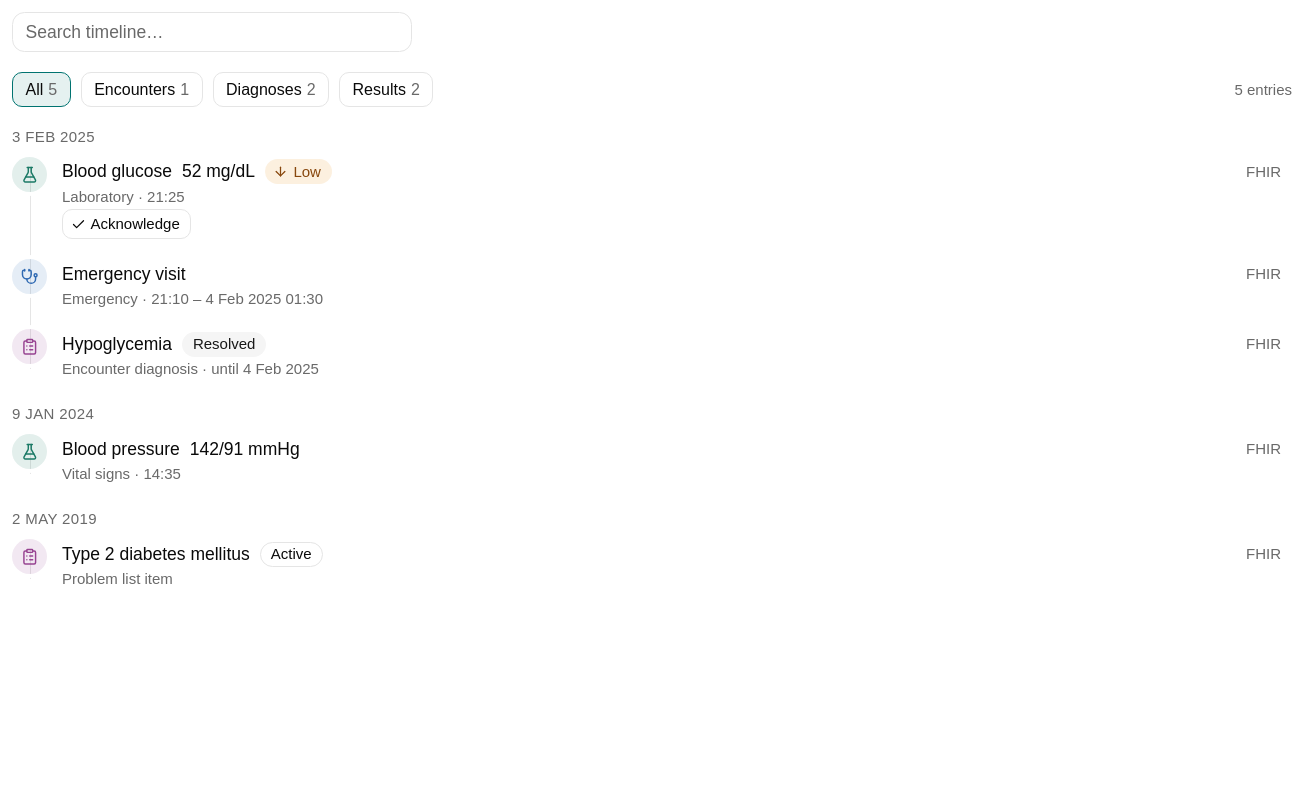
PatientTimeline › searches title, value and category, together with the type filter
Check: the text "Blood glucose" is shown, box x1=62 y1=160 x2=172 y2=184
In the search field labelled "Search timeline": coordinates (212, 32) x1=12 y1=12 x2=412 y2=52, type "142/91"
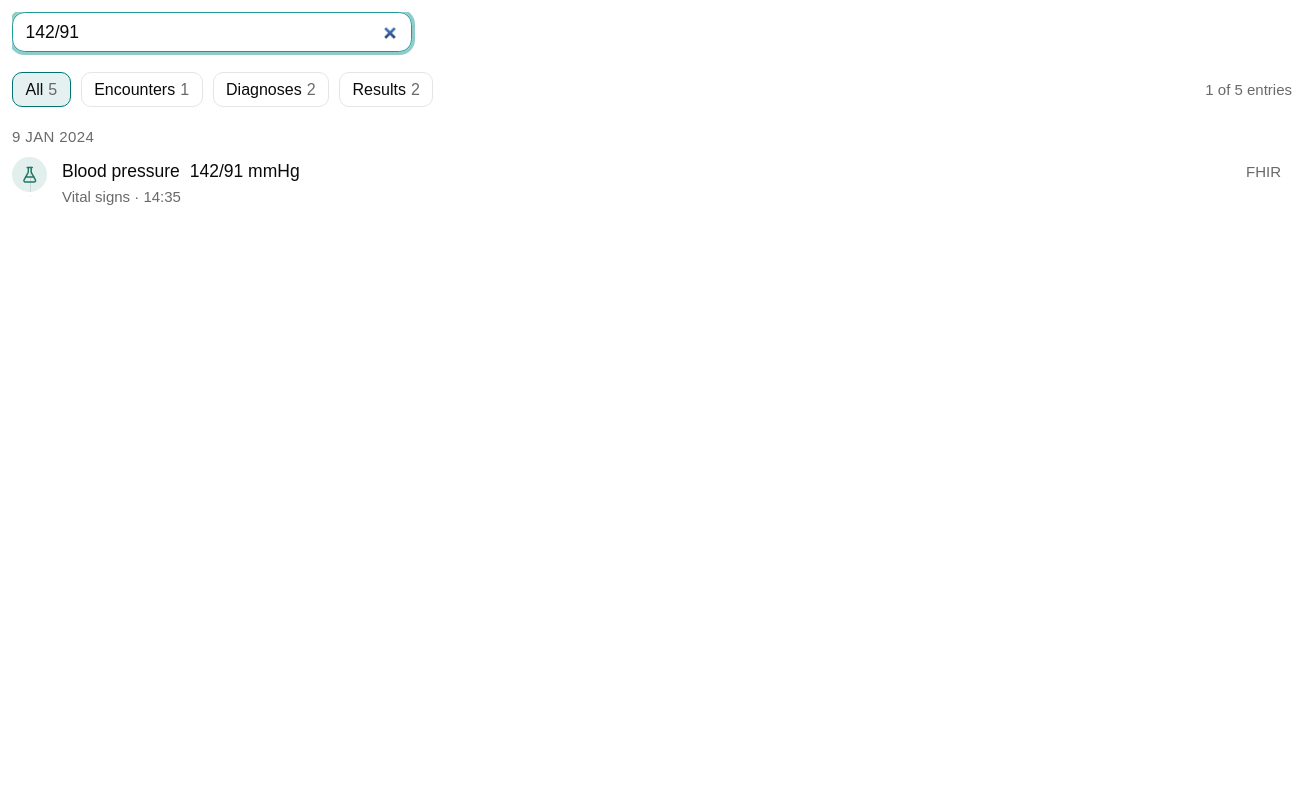
Check: the text "Blood pressure" is shown, box x1=62 y1=160 x2=180 y2=184
Check: the number of list items is 1, box x1=12 y1=157 x2=1292 y2=207
Check: the message reads "1 of 5 entries", box x1=1205 y1=80 x2=1292 y2=98
Replace the text in the search field named "Search timeline" with "laboratory": coordinates (212, 32) x1=12 y1=12 x2=412 y2=52
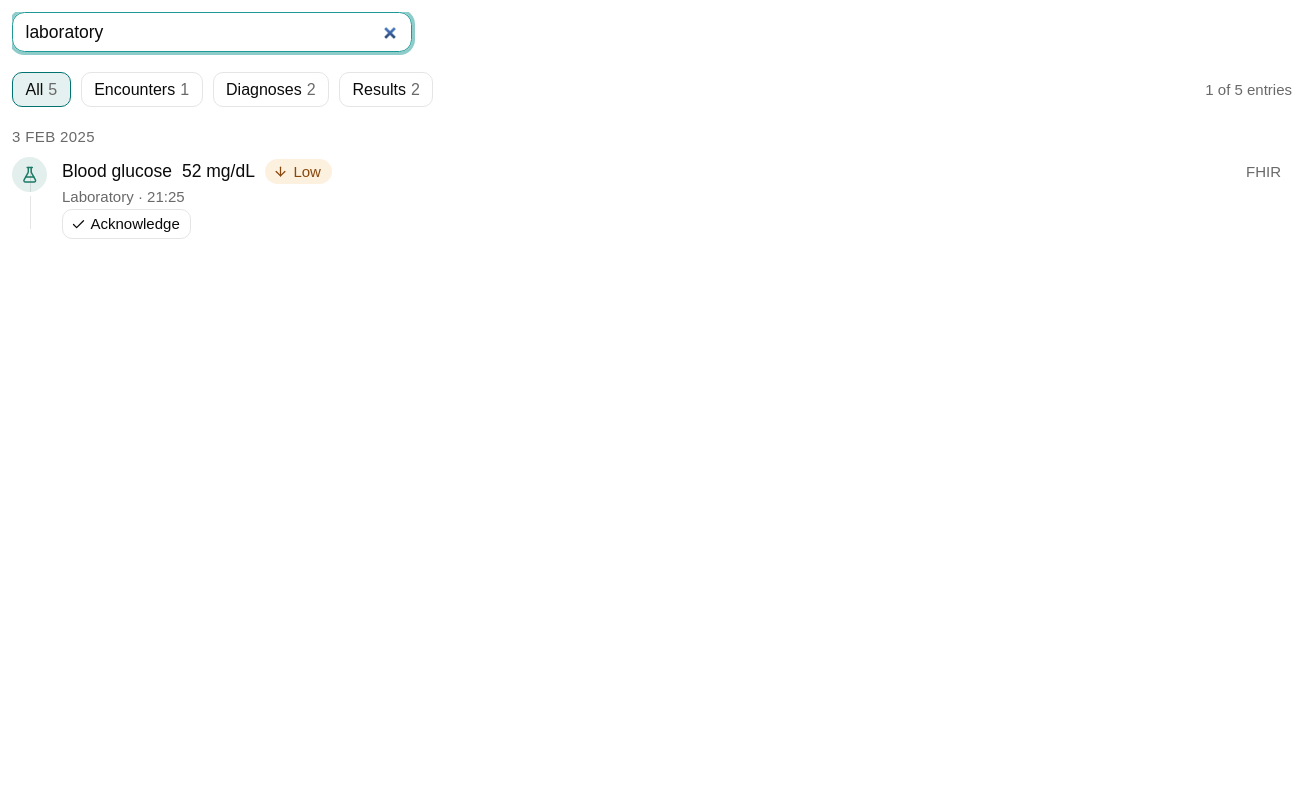
Check: the number of list items is 1, box x1=12 y1=157 x2=1292 y2=240
# The recorded FHIR title matches too, not only the translated one.
Replace the text in the search field named "Search timeline" with "glucose": coordinates (212, 32) x1=12 y1=12 x2=412 y2=52
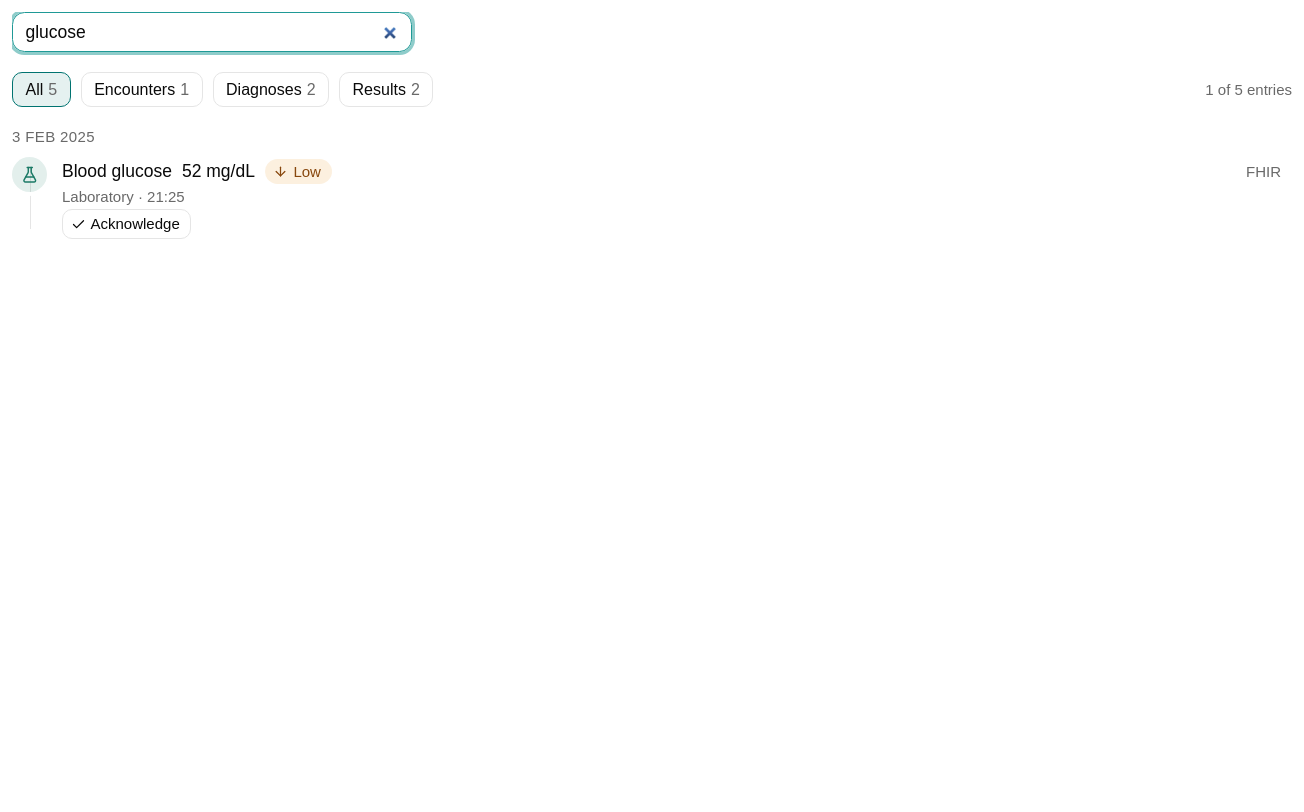
Check: the number of list items is 1, box x1=12 y1=157 x2=1292 y2=240
Replace the text in the search field named "Search timeline" with "nothing like this": coordinates (212, 32) x1=12 y1=12 x2=412 y2=52
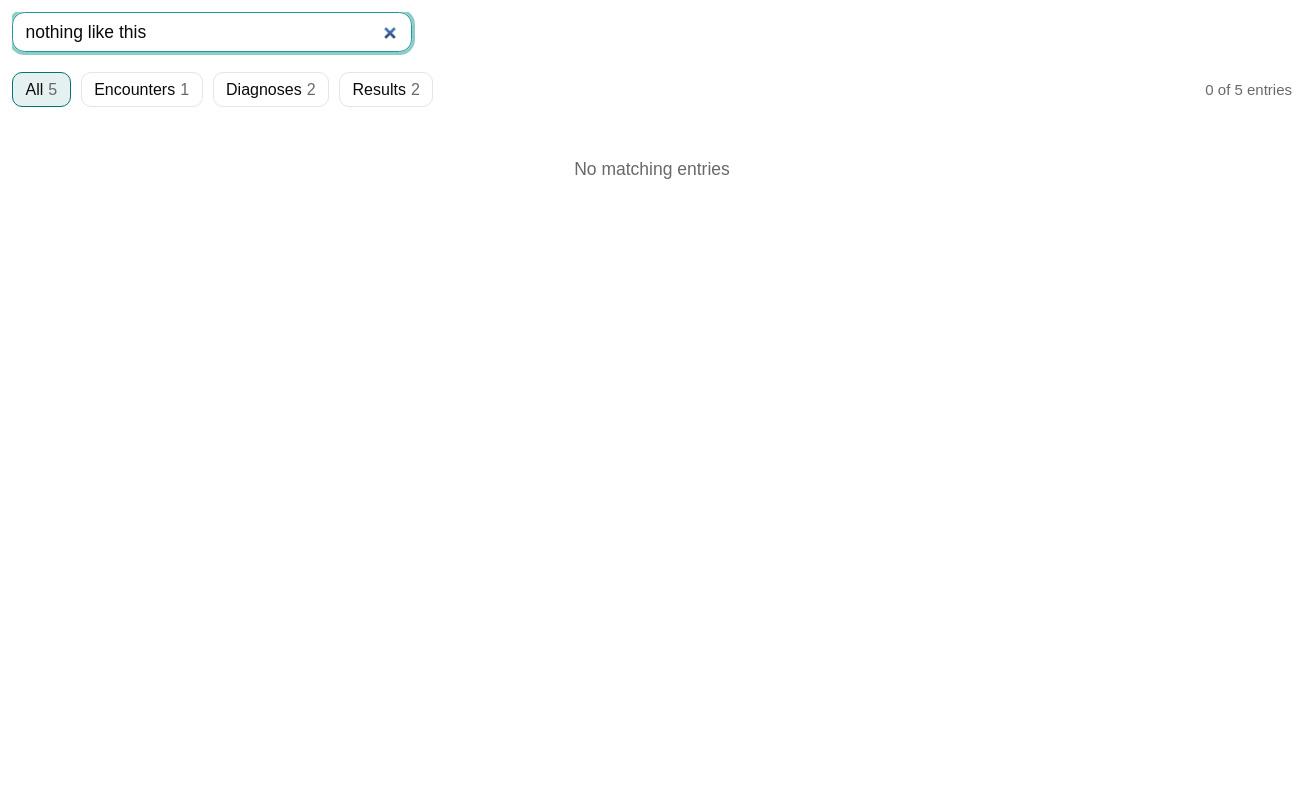
Check: the text "No matching entries" is shown, box x1=574 y1=159 x2=730 y2=179
